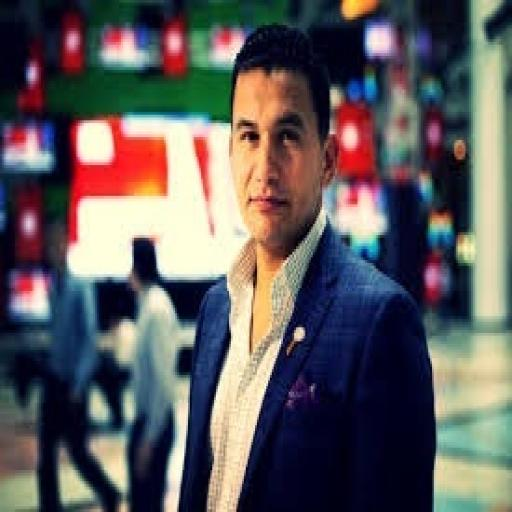laughing: (170, 17, 440, 509)
